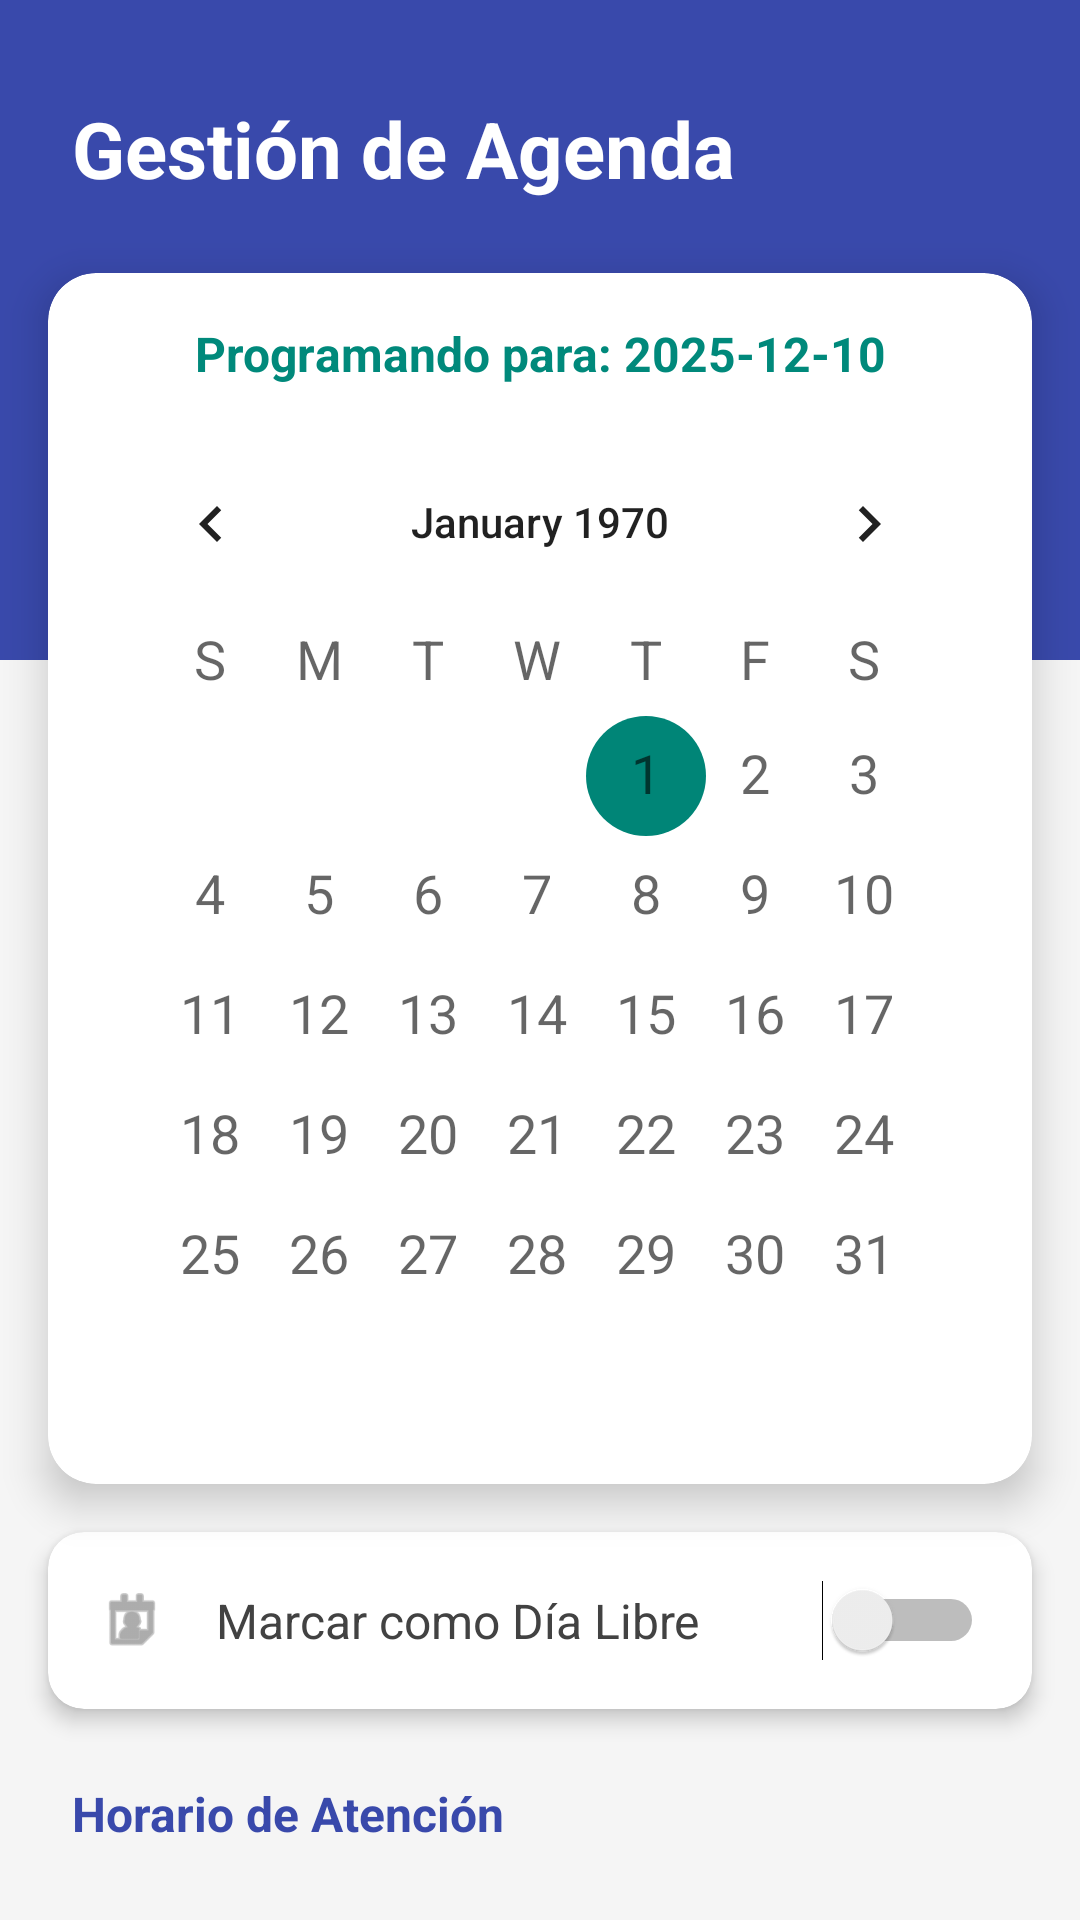

Screen size 1080x1920. Icon name, then its center in pixels as [x,y]:
calendar: [132,1619]
